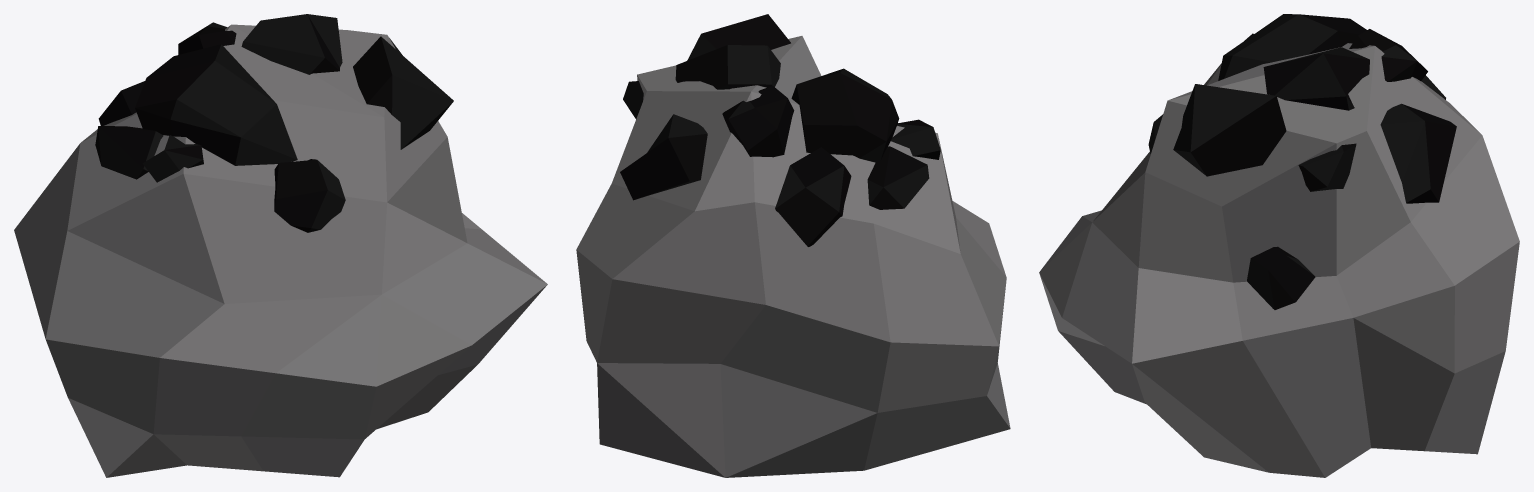
File: mesh_node_coal.fbx
The picture shows the model from 3 angles, left to right: view 1: azimuth 30°, elevation 25°; view 2: azimuth 150°, elevation 25°; view 3: azimuth 270°, elevation 25°; orthographic projection. The views are drawn at different scales.
Visible parts, largest first — view 1: mesh_node_coal; view 2: mesh_node_coal; view 3: mesh_node_coal.
Boxes of the visible parts, box(x1,y1,x2,y2) form: mesh_node_coal: box(14, 14, 547, 477); mesh_node_coal: box(576, 14, 1010, 477); mesh_node_coal: box(1039, 14, 1519, 477).
Bounding box in the file's own units: 149 × 126 × 147.
